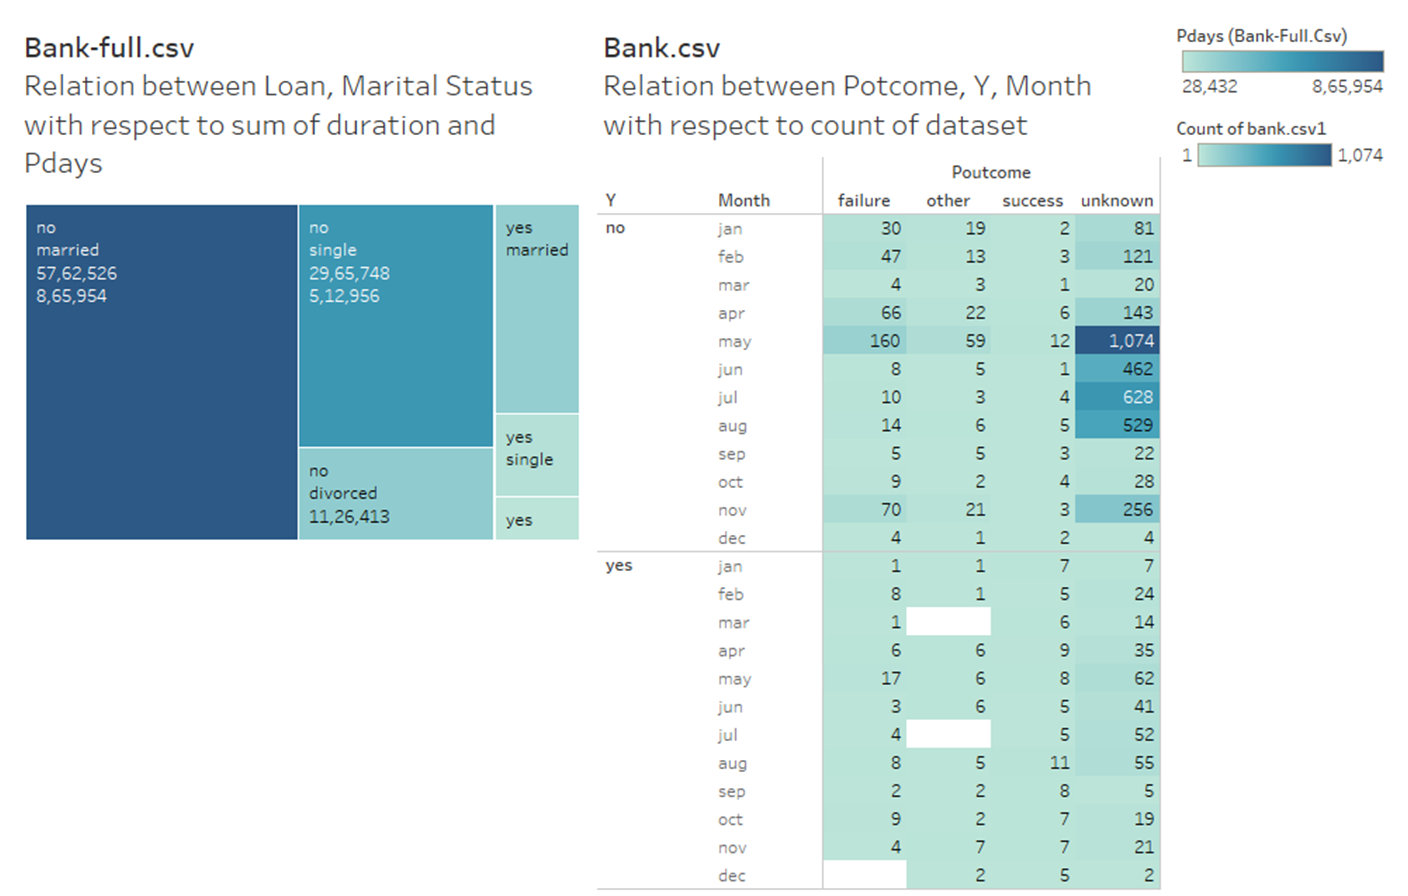

The dashboard page shown, as its layout file describes it:
{"tool":"tableau","page":{"name":"Dashboard 1","canvas":[1000,800],"ordinal":0},"visuals":[{"type":"worksheet","title":"Sheet 3","mark":"Automatic","box":[8,8,412,784]},{"type":"worksheet","title":"Sheet 4","mark":"Square","rows":["y","month"],"cols":["poutcome"],"box":[420,8,412,784]},{"type":"legend","title":"Sheet 3","param":"[federated.1iuugzy0r8b52j1bh1jbb0fz77mk].[sum:pdays (bank-full.csv):qk]","box":[832,8,160,73]},{"type":"legend","title":"Sheet 4","param":"[federated.1iuugzy0r8b52j1bh1jbb0fz77mk].[__tableau_internal_object_id__].[cnt:b","box":[832,81,160,73]}]}

Visuals, with their boxes on the page's 1000x800 design canvas (x1, y1, x2, y2). These are canvas units, not pixel positions in the 1408x896 screenshot, which may show the page scaled, cropped or inside an application window:
"Sheet 3" worksheet: bbox=[8, 8, 420, 792]
"Sheet 4" worksheet (Square marks): bbox=[420, 8, 832, 792]
"Sheet 3" legend: bbox=[832, 8, 992, 81]
"Sheet 4" legend: bbox=[832, 81, 992, 154]
